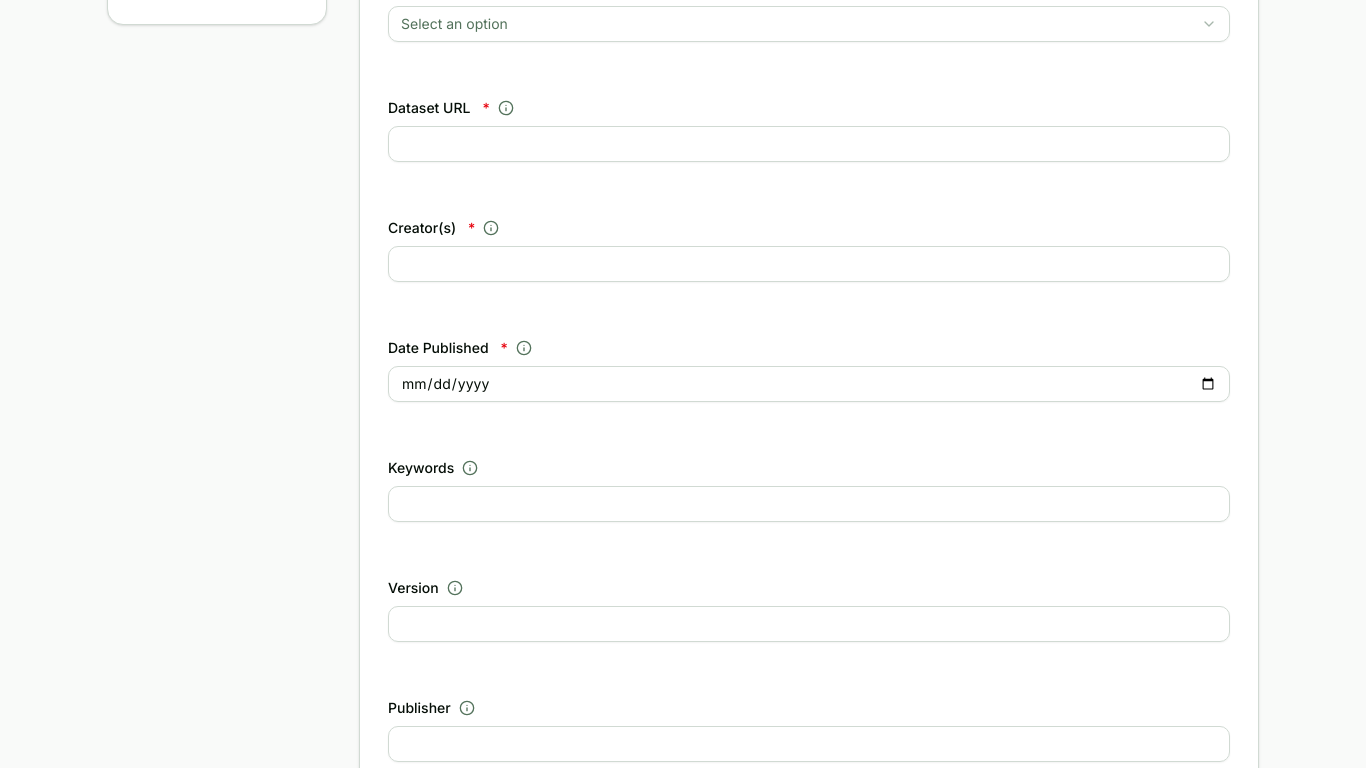
Test: CroissantMetadataPage › Form Validation - Invalid Formats › requires date published to be a valid date
This screenshot has width=1366, height=768.
(page scrolled)
Step 1. Type "not a date" into the date field labelled "Date Published *" → (809, 384), box x1=388 y1=366 x2=1230 y2=402
(page scrolled)
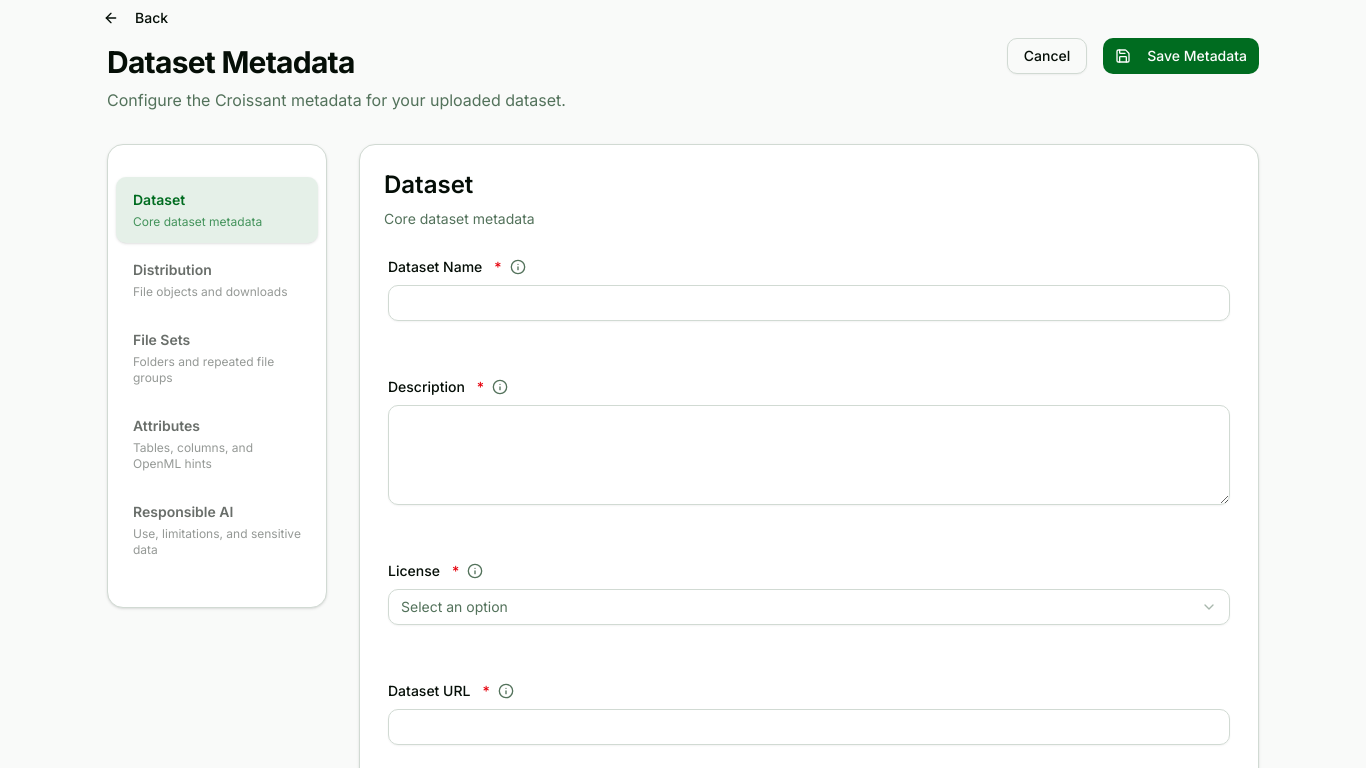
Step 2. Click the button "Save Metadata" → (1181, 56), box x1=1103 y1=38 x2=1259 y2=74
(page scrolled)
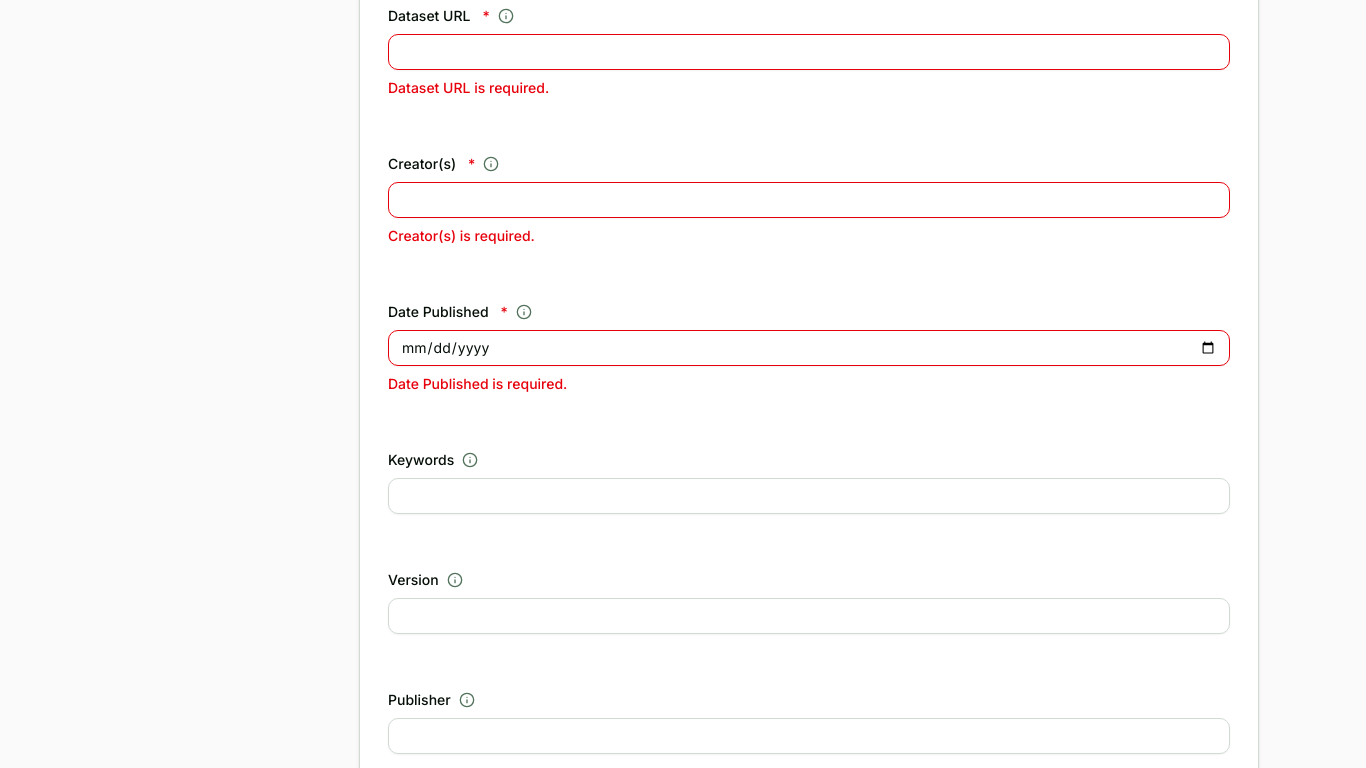
Expected: the text "Date Published is required." is shown, x1=388 y1=375 x2=567 y2=392
